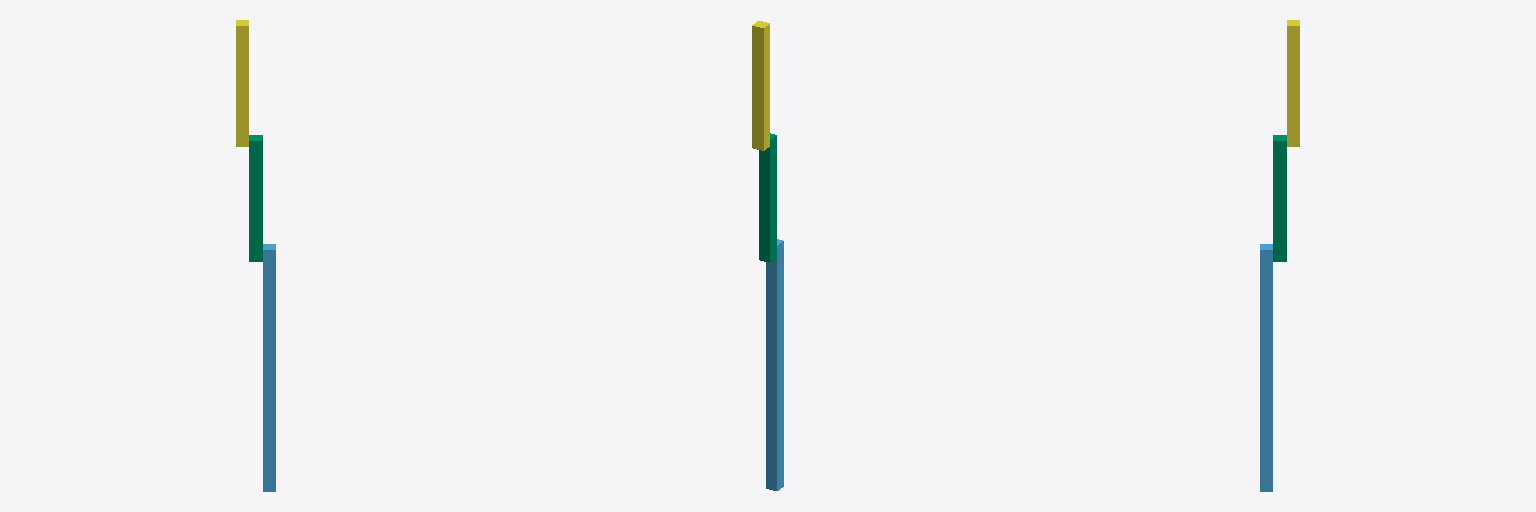
robot.urdf — trobo:
<?xml version="1.0" ?>
<!-- =================================================================================== -->
<!-- |    This document was autogenerated by xacro from urdf/trobo.xacro               | -->
<!-- |    EDITING THIS FILE BY HAND IS NOT RECOMMENDED                                 | -->
<!-- =================================================================================== -->
<!-- Revolute-Revolute Manipulator -->
<robot name="trobo" xmlns:xacro="http://www.ros.org/wiki/xacro">
  <!-- Space btw top of beam and the each joint -->
  <!-- Used for fixing robot to Gazebo 'base_link' -->
  <link name="world"/>
  <joint name="fixed" type="fixed">
    <parent link="world"/>
    <child link="link1"/>
  </joint>
  <!-- Base Link -->
  <link name="link1">
    <collision>
      <origin rpy="0 0 0" xyz="0 0 1.0"/>
      <geometry>
        <box size="0.1 0.1 2"/>
      </geometry>
    </collision>
    <visual>
      <origin rpy="0 0 0" xyz="0 0 1.0"/>
      <geometry>
        <box size="0.1 0.1 2"/>
      </geometry>
      <material name="orange"/>
    </visual>
    <inertial>
      <origin rpy="0 0 0" xyz="0 0 1.0"/>
      <mass value="1"/>
      <inertia ixx="1.0" ixy="0.0" ixz="0.0" iyy="1.0" iyz="0.0" izz="1.0"/>
    </inertial>
  </link>
  <joint name="joint1" type="continuous">
    <parent link="link1"/>
    <child link="link2"/>
    <origin rpy="0 0 0" xyz="0 0.1 1.95"/>
    <axis xyz="0 1 0"/>
    <dynamics damping="0.7"/>
  </joint>
  <!-- Middle Link -->
  <link name="link2">
    <collision>
      <origin rpy="0 0 0" xyz="0 0 0.45"/>
      <geometry>
        <box size="0.1 0.1 1"/>
      </geometry>
    </collision>
    <visual>
      <origin rpy="0 0 0" xyz="0 0 0.45"/>
      <geometry>
        <box size="0.1 0.1 1"/>
      </geometry>
      <material name="black"/>
    </visual>
    <inertial>
      <origin rpy="0 0 0" xyz="0 0 0.45"/>
      <mass value="1"/>
      <inertia ixx="1.0" ixy="0.0" ixz="0.0" iyy="1.0" iyz="0.0" izz="1.0"/>
    </inertial>
  </link>
  <transmission name="tran1">
    <type>transmission_interface/SimpleTransmission</type>
    <joint name="joint1">
      <hardwareInterface>PositionJointInterface</hardwareInterface>
    </joint>
    <actuator name="motor1">
      <hardwareInterface>PositionJointInterface</hardwareInterface>
      <mechanicalReduction>1</mechanicalReduction>
    </actuator>
  </transmission>
  <joint name="joint2" type="continuous">
    <parent link="link2"/>
    <child link="link3"/>
    <origin rpy="0 0 0" xyz="0 0.1 0.95"/>
    <axis xyz="0 1 0"/>
    <dynamics damping="0.7"/>
  </joint>
  <!-- Leaf Link -->
  <link name="link3">
    <collision>
      <origin rpy="0 0 0" xyz="0 0 0.45"/>
      <geometry>
        <box size="0.1 0.1 1"/>
      </geometry>
    </collision>
    <visual>
      <origin rpy="0 0 0" xyz="0 0 0.45"/>
      <geometry>
        <box size="0.1 0.1 1"/>
      </geometry>
      <material name="blue"/>
    </visual>
    <inertial>
      <origin rpy="0 0 0" xyz="0 0 0.45"/>
      <mass value="1"/>
      <inertia ixx="1.0" ixy="0.0" ixz="0.0" iyy="1.0" iyz="0.0" izz="1.0"/>
    </inertial>
  </link>
  <transmission name="tran2">
    <type>transmission_interface/SimpleTransmission</type>
    <joint name="joint2">
      <hardwareInterface>PositionJointInterface</hardwareInterface>
    </joint>
    <actuator name="motor2">
      <hardwareInterface>PositionJointInterface</hardwareInterface>
      <mechanicalReduction>1</mechanicalReduction>
    </actuator>
  </transmission>
</robot>

--- Render facts (derived) ---
The picture shows the robot from 3 angles, left to right: view 1: azimuth 90°, elevation 25°; view 2: azimuth 150°, elevation 25°; view 3: azimuth 270°, elevation 25°; orthographic projection.
Model trobo with 4 links and 3 joints (2 continuous, 1 fixed), rooted at world, posed all joints at 0.
Links seen in each view (by area): view 1: link1, link2, link3; view 2: link1, link3, link2; view 3: link1, link2, link3.
Boxes of the visible links, bbox=[...] form: link1: bbox=[263, 244, 275, 491]; link2: bbox=[249, 135, 262, 261]; link3: bbox=[236, 20, 248, 146]; link1: bbox=[766, 239, 783, 490]; link3: bbox=[752, 21, 769, 150]; link2: bbox=[759, 133, 776, 262]; link1: bbox=[1260, 244, 1272, 491]; link2: bbox=[1273, 135, 1286, 261]; link3: bbox=[1287, 20, 1299, 146].
Size in the robot's own frame: 0.1 by 0.3 by 3.85 metres.
Geometry: primitives only (box / cylinder / sphere), no mesh files.
